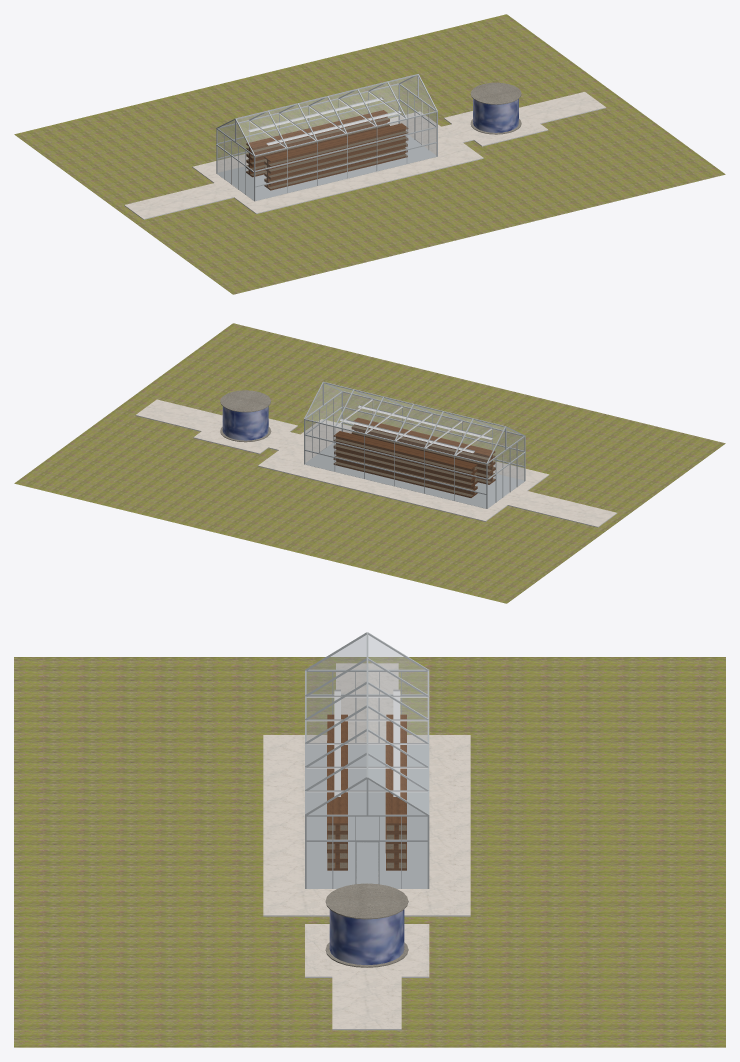
Rendered from 3dteplica.glb.
3 views of the same model, one above another, from view 1: azimuth 30°, elevation 25°; view 2: azimuth 150°, elevation 25°; view 3: azimuth 270°, elevation 25° (orthographic). The views are drawn at different scales.
Parts seen in each view (by area): view 1: Geom3D_ (×13), Geom3D (×4); view 2: Geom3D_ (×13), Geom3D (×4); view 3: Geom3D_ (×6), Geom3D (×4).
Boxes of the visible parts, box(x1,y1,x2,y2) form: Geom3D_ (×13): box(14, 14, 725, 294); Geom3D (×4): box(125, 75, 605, 218); Geom3D_ (×13): box(14, 323, 725, 603); Geom3D (×4): box(136, 383, 616, 526); Geom3D_ (×6): box(14, 657, 725, 1047); Geom3D (×4): box(263, 634, 470, 1028).
Size of the model in its own units: 44.61 by 6.07 by 34.36.
Materials: 10 (7 with a texture image).
